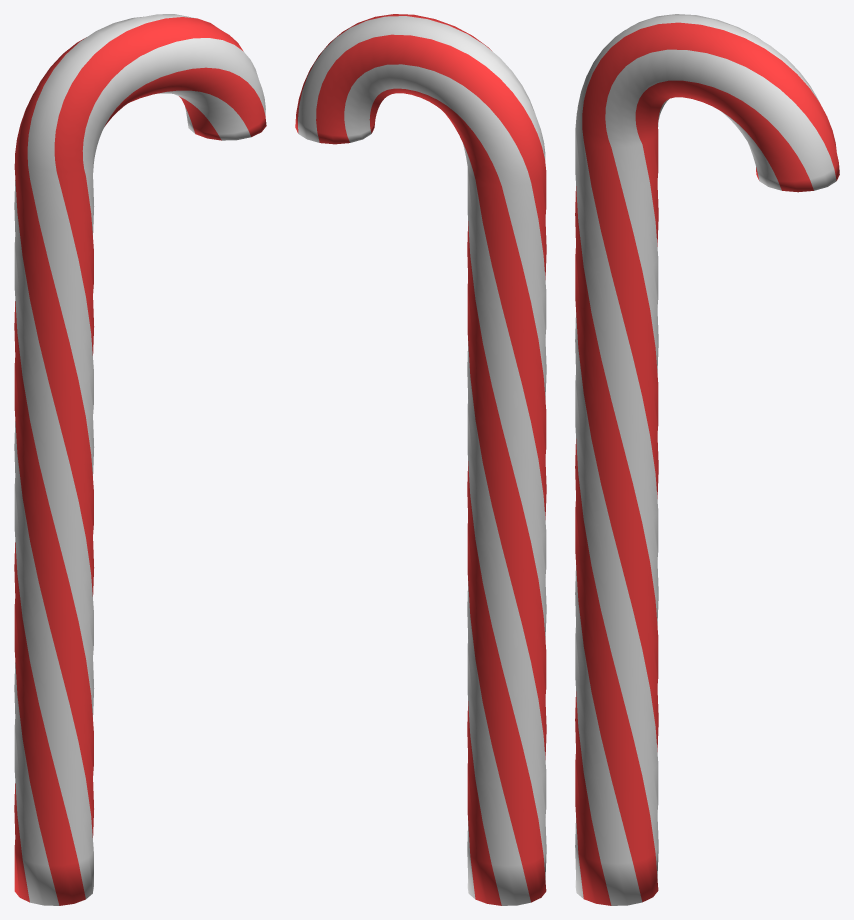
The model's file is candy-cane.fbx.
3 renders of one model, left to right at view 1: azimuth 30°, elevation 25°; view 2: azimuth 150°, elevation 25°; view 3: azimuth 330°, elevation 25°, orthographic. The views are drawn at different scales.
Visible parts, largest first — view 1: baston; view 2: baston; view 3: baston.
Boxes of the visible parts, x1,y1,x2,y2 form: baston: (14,14,266,905); baston: (295,14,546,905); baston: (575,14,839,905).
Size of the model in its own units: 3.5 by 11.74 by 1.07.
